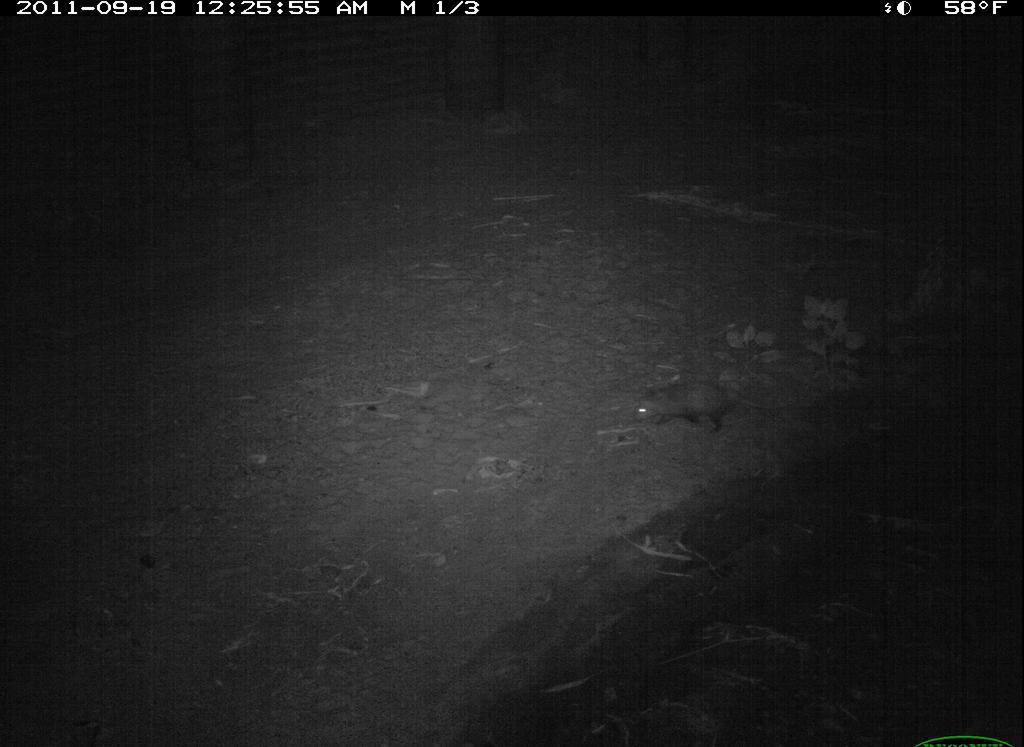opossum: (605, 367, 767, 447)
